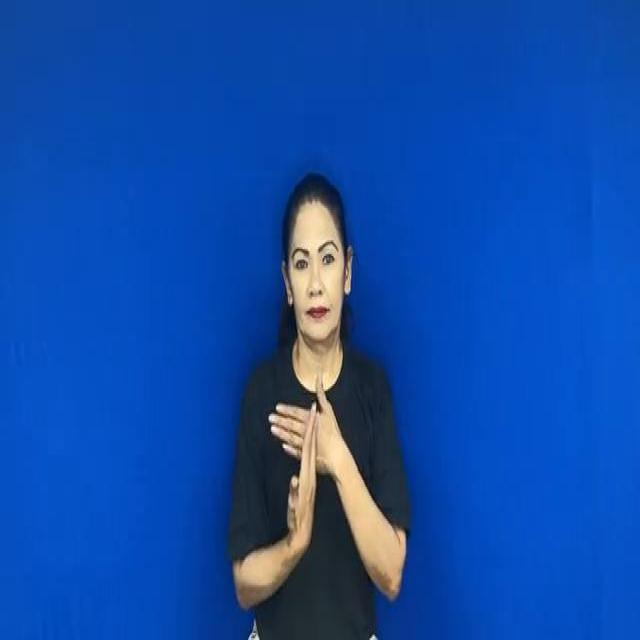bread: (268, 374, 344, 559)
